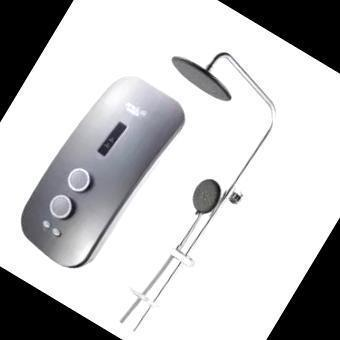Ducha: (0, 0, 315, 340)
